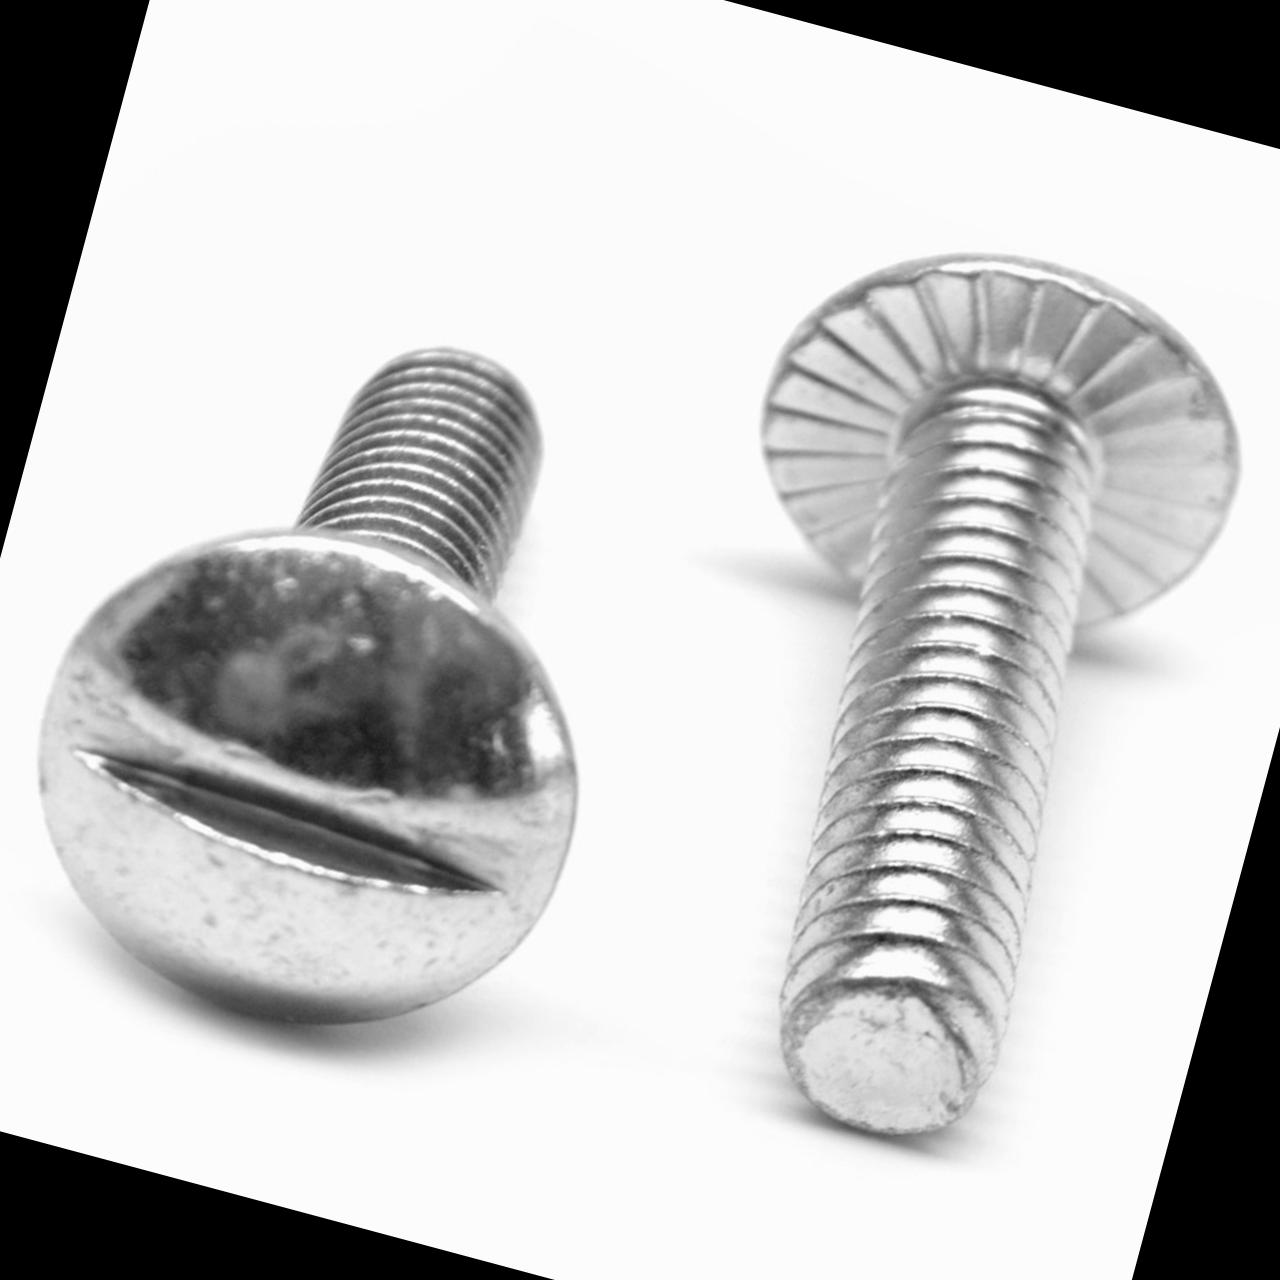slotted: (0, 481, 626, 1095)
